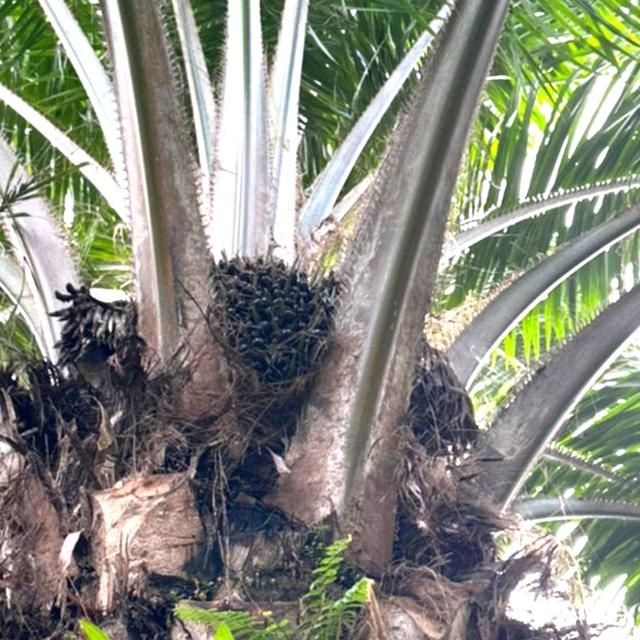unripe: (198, 238, 346, 410)
